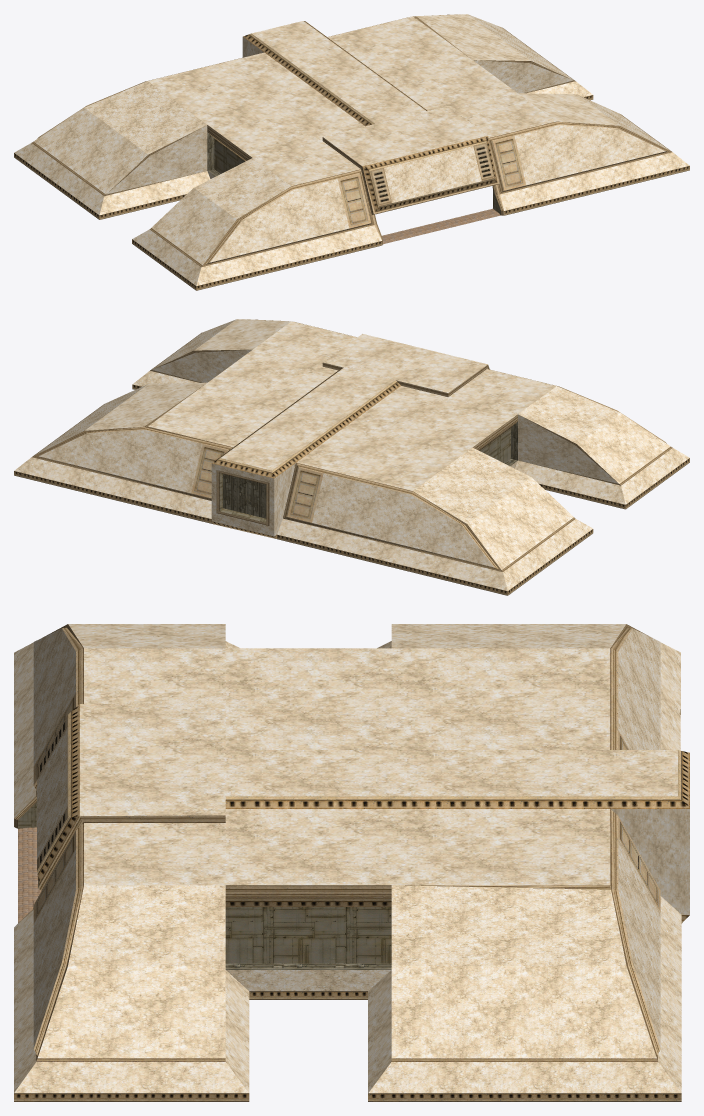
Rendered from mun_tato_cloning_s01_r0_mesh_l1.fbx.
The picture shows the model from 3 angles, top to bottom: view 1: azimuth 30°, elevation 25°; view 2: azimuth 150°, elevation 25°; view 3: azimuth 270°, elevation 25°; orthographic projection. The views are drawn at different scales.
Parts seen in each view (by area): view 1: mesh_node; view 2: mesh_node; view 3: mesh_node.
Boxes of the visible parts, <box> form: mesh_node: <box>14,14,689,290</box>; mesh_node: <box>14,319,689,595</box>; mesh_node: <box>14,624,689,1101</box>.
Size of the model in its own units: 62.92 by 8.14 by 40.77.
